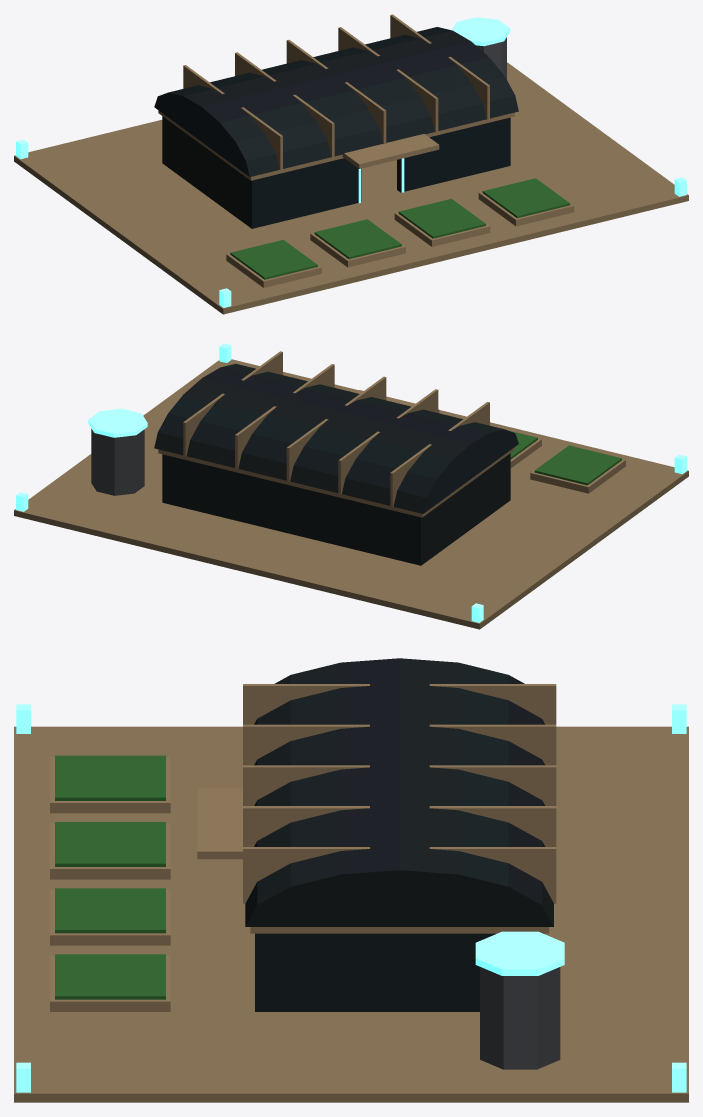
Rendered from shaddai_dist_ocean_farm_v01.glb.
The picture shows the model from 3 angles, top to bottom: view 1: azimuth 30°, elevation 25°; view 2: azimuth 150°, elevation 25°; view 3: azimuth 270°, elevation 25°; orthographic projection. The views are drawn at different scales.
Visible parts, largest first — view 1: shaddai_dist_ocean_farm; view 2: shaddai_dist_ocean_farm; view 3: shaddai_dist_ocean_farm.
Part boxes in pixels (left/top/right/bottom): shaddai_dist_ocean_farm: left=14, top=14, right=688, bottom=314; shaddai_dist_ocean_farm: left=14, top=343, right=688, bottom=629; shaddai_dist_ocean_farm: left=14, top=658, right=688, bottom=1102.
Bounding box in the file's own units: 36 × 7.1 × 28.
